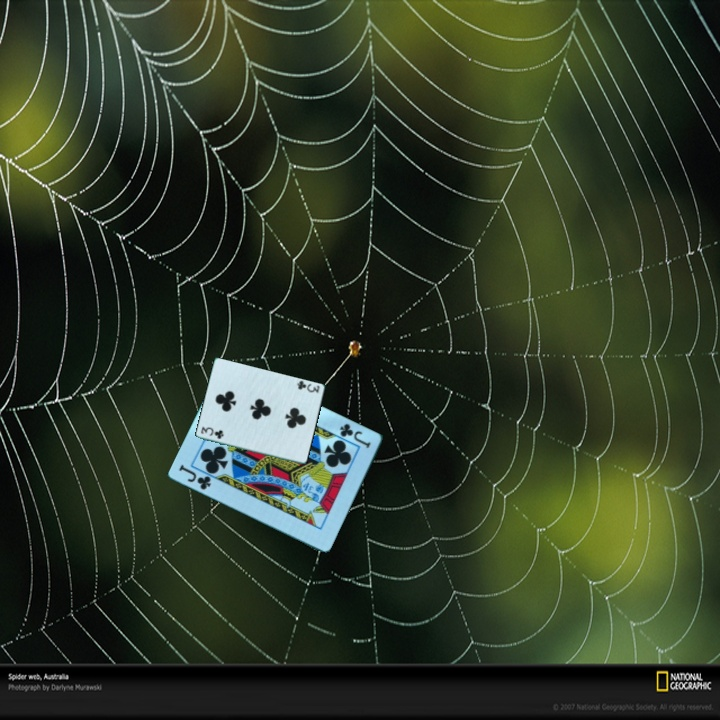3c: (294, 377, 323, 396), (197, 425, 227, 442)
Jc: (175, 461, 215, 493), (337, 420, 374, 451)
